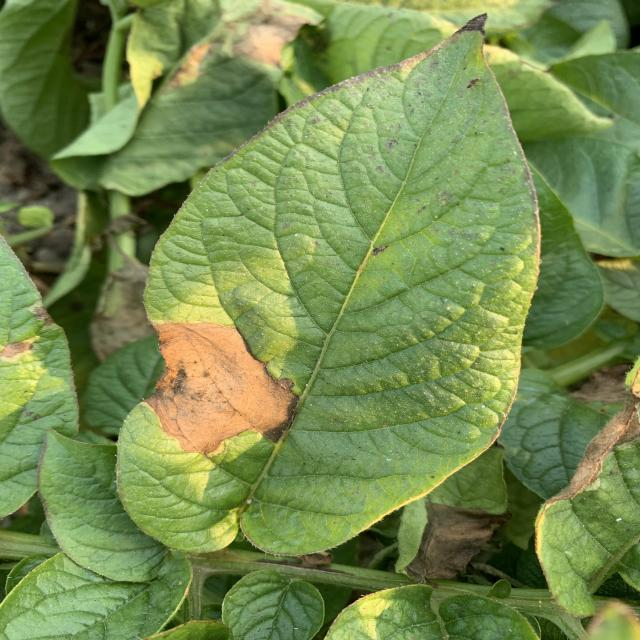lateblight: (145, 322, 298, 455)
